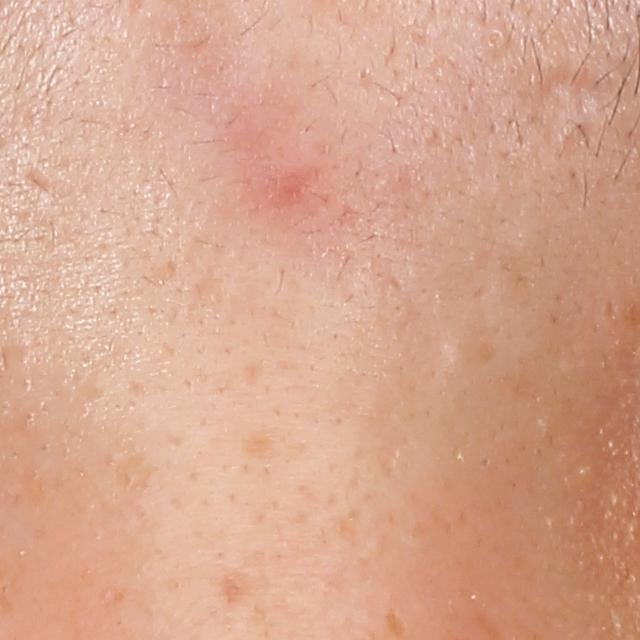atrophic_scar: (518, 63, 638, 146), (16, 165, 58, 202)
comedo: (444, 334, 478, 370), (481, 22, 510, 56)
melasma: (183, 266, 231, 320), (107, 449, 155, 498), (381, 606, 408, 640)
